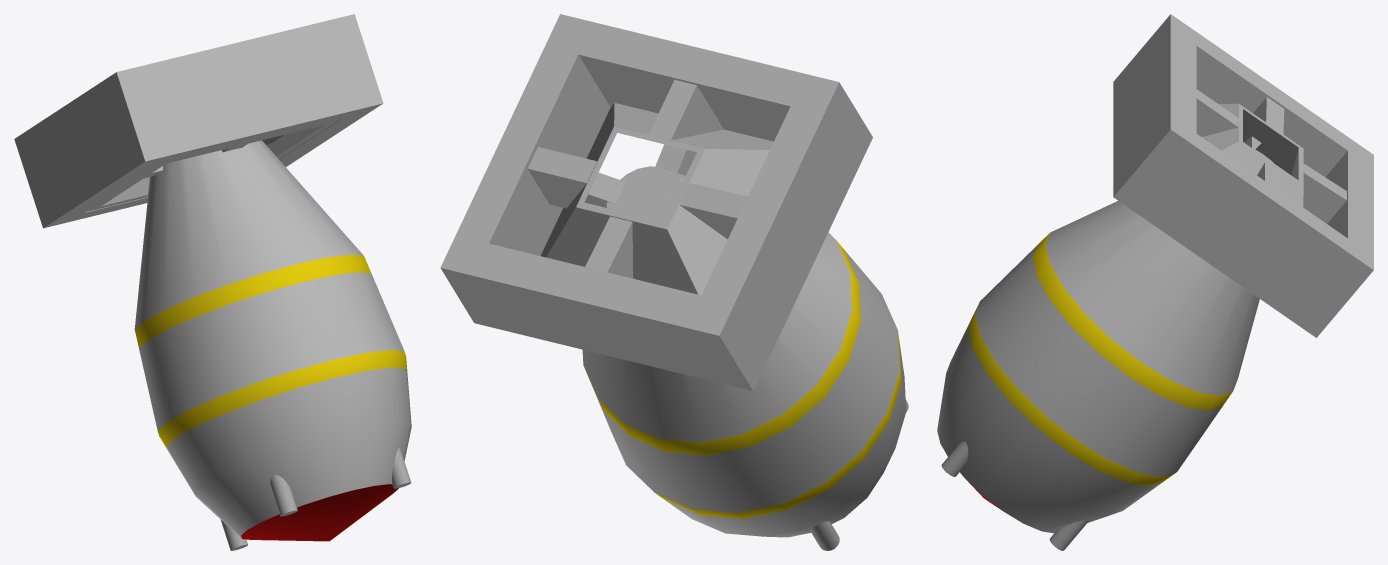
The model's file is nuclear.fbx.
3 renders of one model, left to right at view 1: azimuth 30°, elevation 25°; view 2: azimuth 150°, elevation 25°; view 3: azimuth 270°, elevation 25°, orthographic. The views are drawn at different scales.
Visible parts, largest first — view 1: pCylinder6; view 2: pCylinder6; view 3: pCylinder6.
Part boxes in pixels (x1,y1,x2,y2): pCylinder6: [14, 14, 411, 550]; pCylinder6: [440, 14, 908, 550]; pCylinder6: [937, 14, 1373, 550].
Size of the model in its own units: 3.47 by 6.34 by 5.55.
